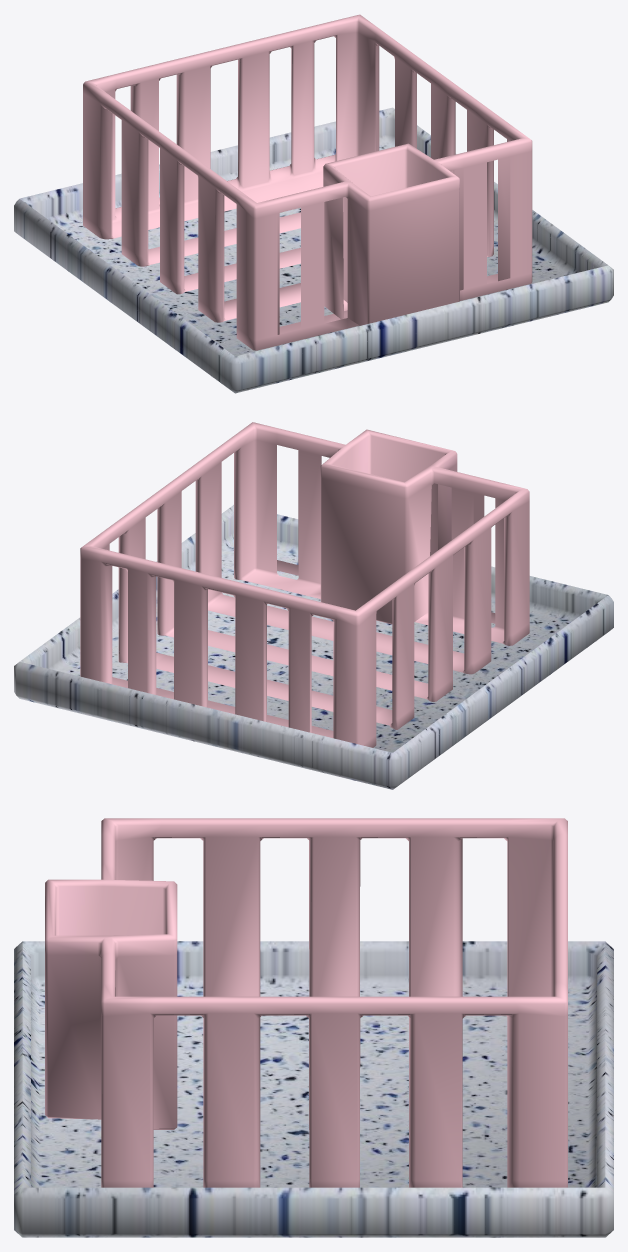
The model's file is PlateDrainer.fbx.
3 views of the same model, one above another, from view 1: azimuth 30°, elevation 25°; view 2: azimuth 150°, elevation 25°; view 3: azimuth 270°, elevation 25° (orthographic). The views are drawn at different scales.
Visible parts, largest first — view 1: drainPan; view 2: drainPan; view 3: drainPan.
Boxes of the visible parts, x1,y1,x2,y2 form: drainPan: (14, 14, 613, 393); drainPan: (14, 422, 613, 789); drainPan: (14, 818, 613, 1237).
Bounding box in the file's own units: 1476 × 561 × 1476.
